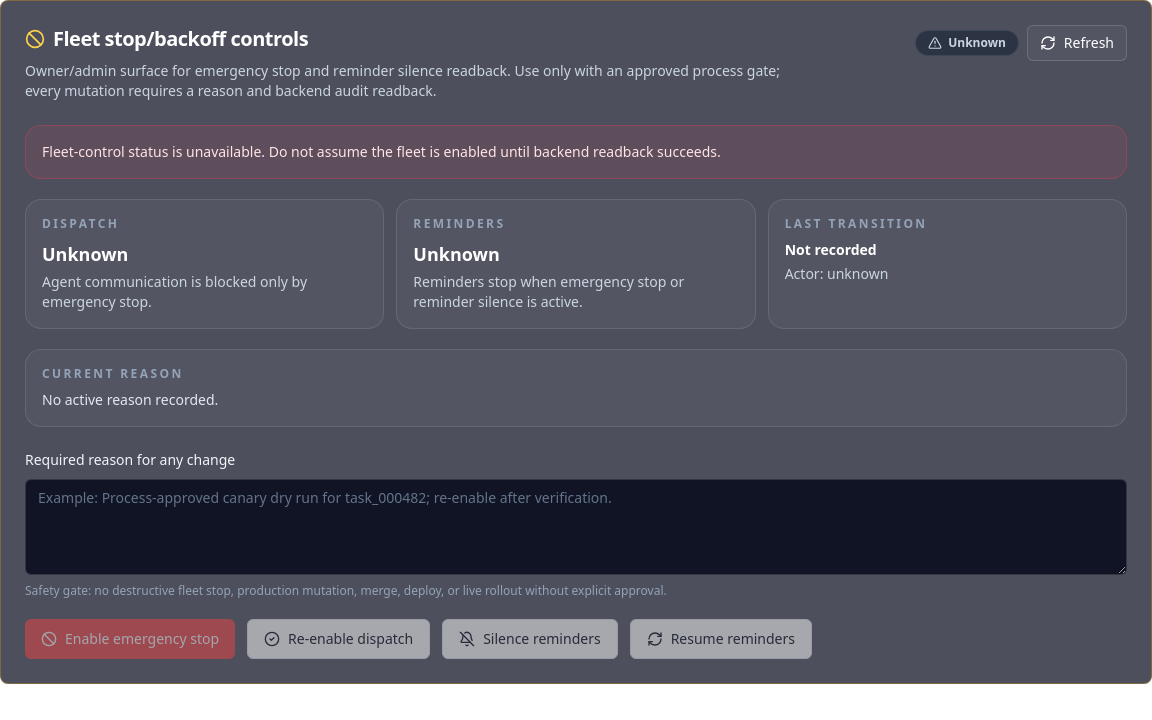
Test: FleetControlPanel › fails closed when fleet status cannot be read
Expected: the message shows "Do not assume the fleet is enabled", [42, 142, 721, 161]
Type "Process approved canary gate" into the text box labelled "Required reason for any change" at (576, 527), box [25, 479, 1127, 575]
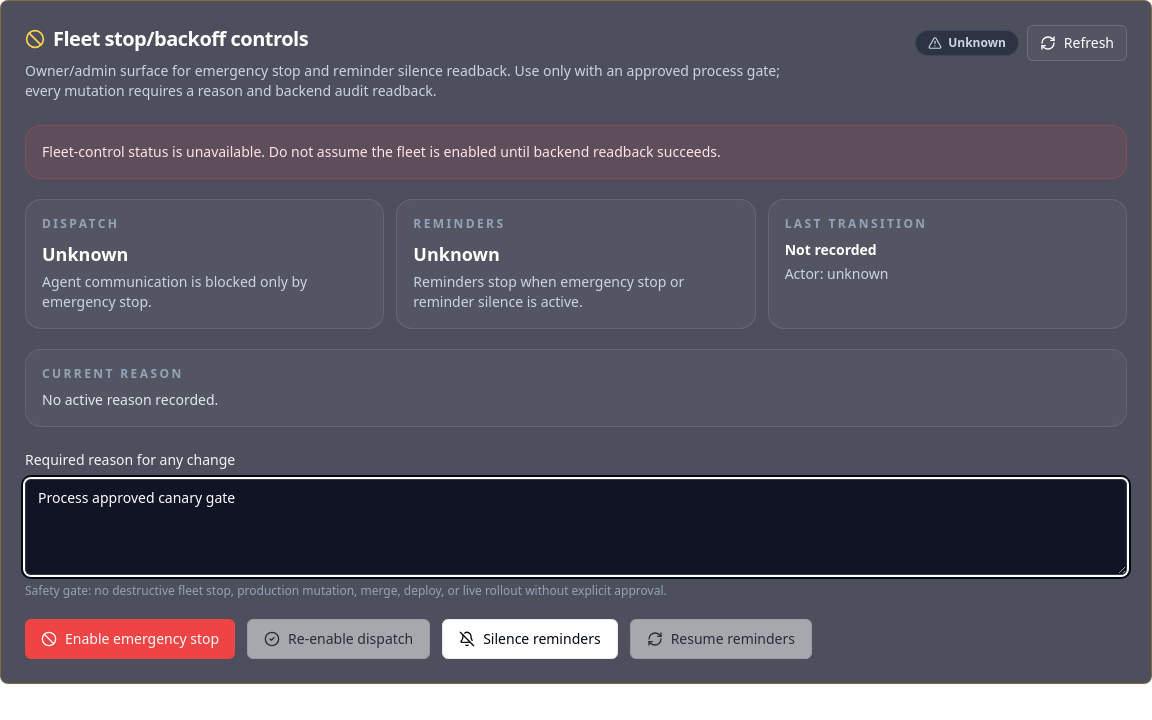
Expected: the button "Re-enable dispatch" is disabled, [247, 619, 430, 659]
Expected: the button "Enable emergency stop" is enabled, [25, 619, 235, 659]
Expected: the button "Silence reminders" is enabled, [442, 619, 618, 659]
